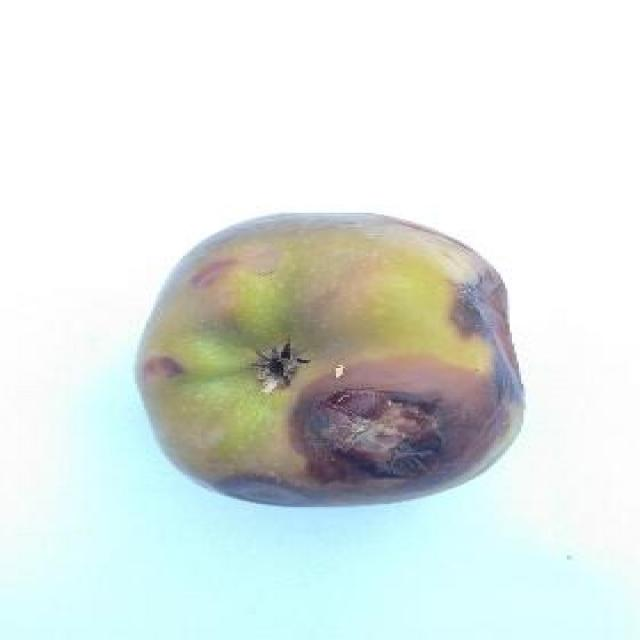Rotten: (142, 215, 513, 510)
